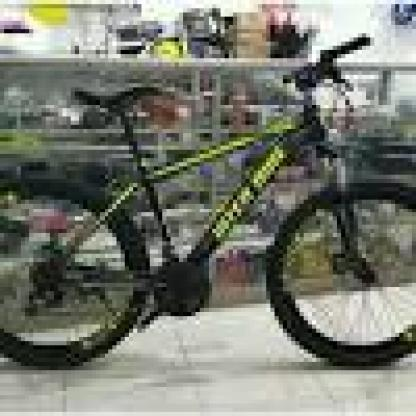Bike: (0, 26, 416, 370)
